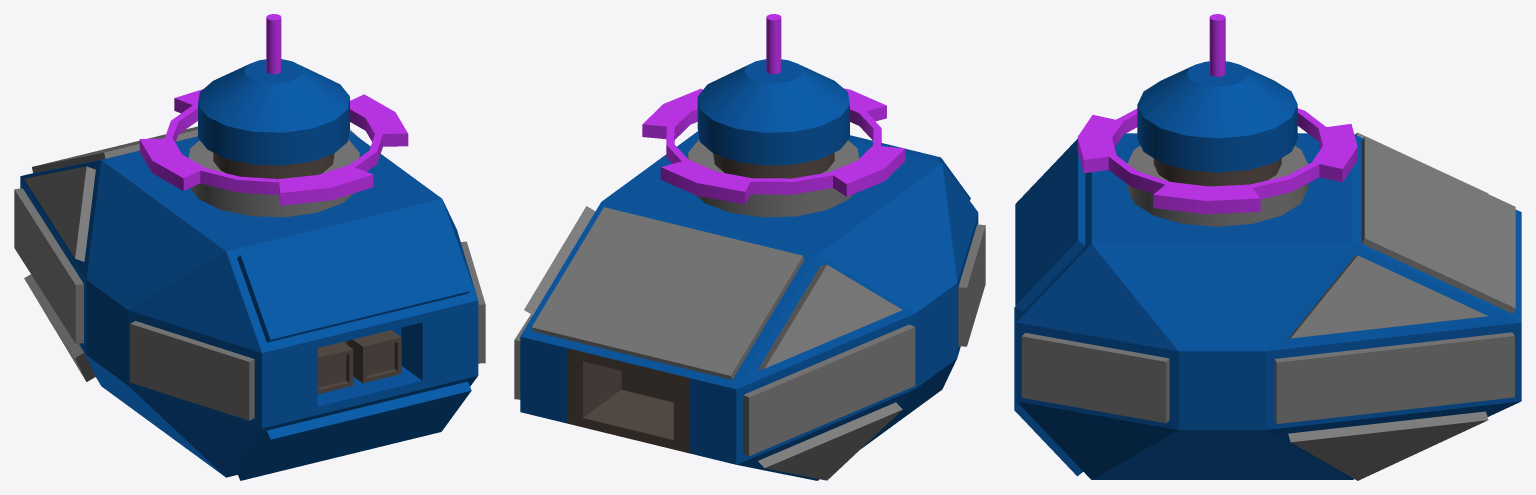
Rendered from hover_repair.fbx.
The picture shows the model from 3 angles, left to right: view 1: azimuth 30°, elevation 25°; view 2: azimuth 150°, elevation 25°; view 3: azimuth 270°, elevation 25°; orthographic projection. The views are drawn at different scales.
Visible parts, largest first — view 1: Cube.049, Cylinder.071, Cylinder.072, Cube.054; view 2: Cube.049, Cylinder.071, Cylinder.072; view 3: Cube.049, Cylinder.071, Cylinder.072.
Boxes of the visible parts, bbox=[...] form: Cube.049: bbox=[14, 126, 485, 480]; Cylinder.071: bbox=[188, 14, 359, 217]; Cylinder.072: bbox=[139, 89, 408, 205]; Cube.054: bbox=[317, 330, 401, 394]; Cube.049: bbox=[514, 131, 985, 480]; Cylinder.071: bbox=[688, 14, 859, 217]; Cylinder.072: bbox=[642, 88, 905, 204]; Cube.049: bbox=[1014, 132, 1521, 480]; Cylinder.071: bbox=[1127, 14, 1308, 226]; Cylinder.072: bbox=[1077, 108, 1357, 214].
Size of the model in its own units: 590 by 648 by 731.
